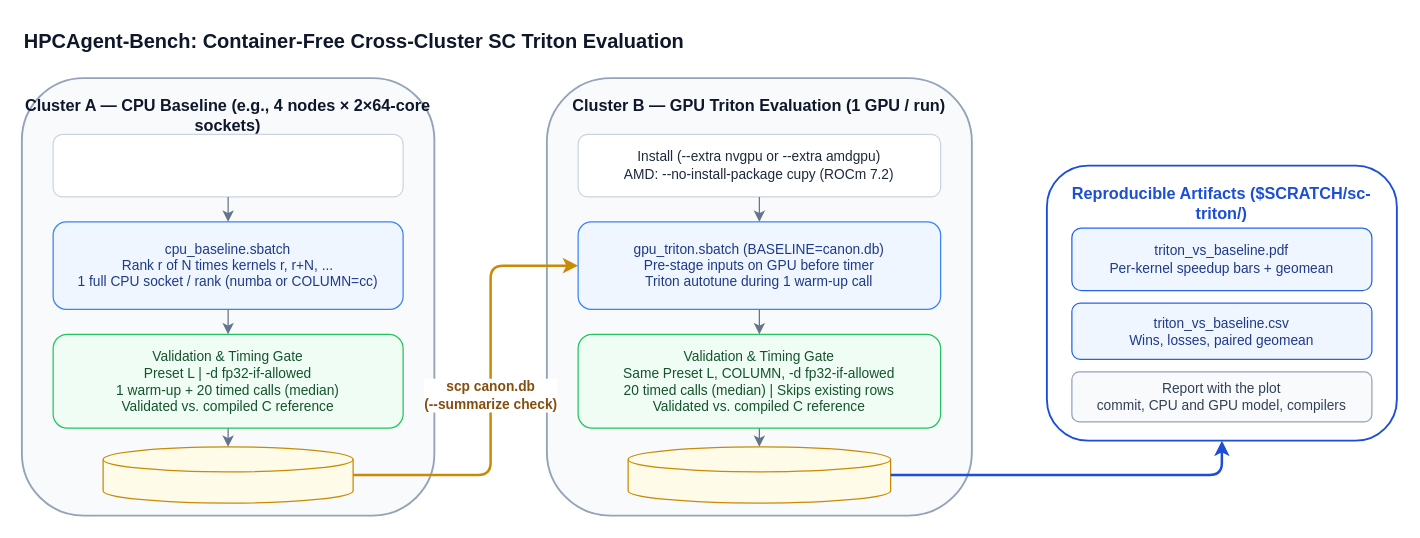
Image size: 1420x538. Some labels were removed from this diagram. The centre of each missing label's shape, as x and y in pixels:
"$SCRATCH/sc-baseline/canon.db (Baseline validated rows)" goes at (227,474).
"Install (uv sync --extra cpu) gcc + pkg-config openblas" goes at (227,165).
"Merged canon.db (Paired CPU baseline + GPU Triton)" goes at (759,474).
